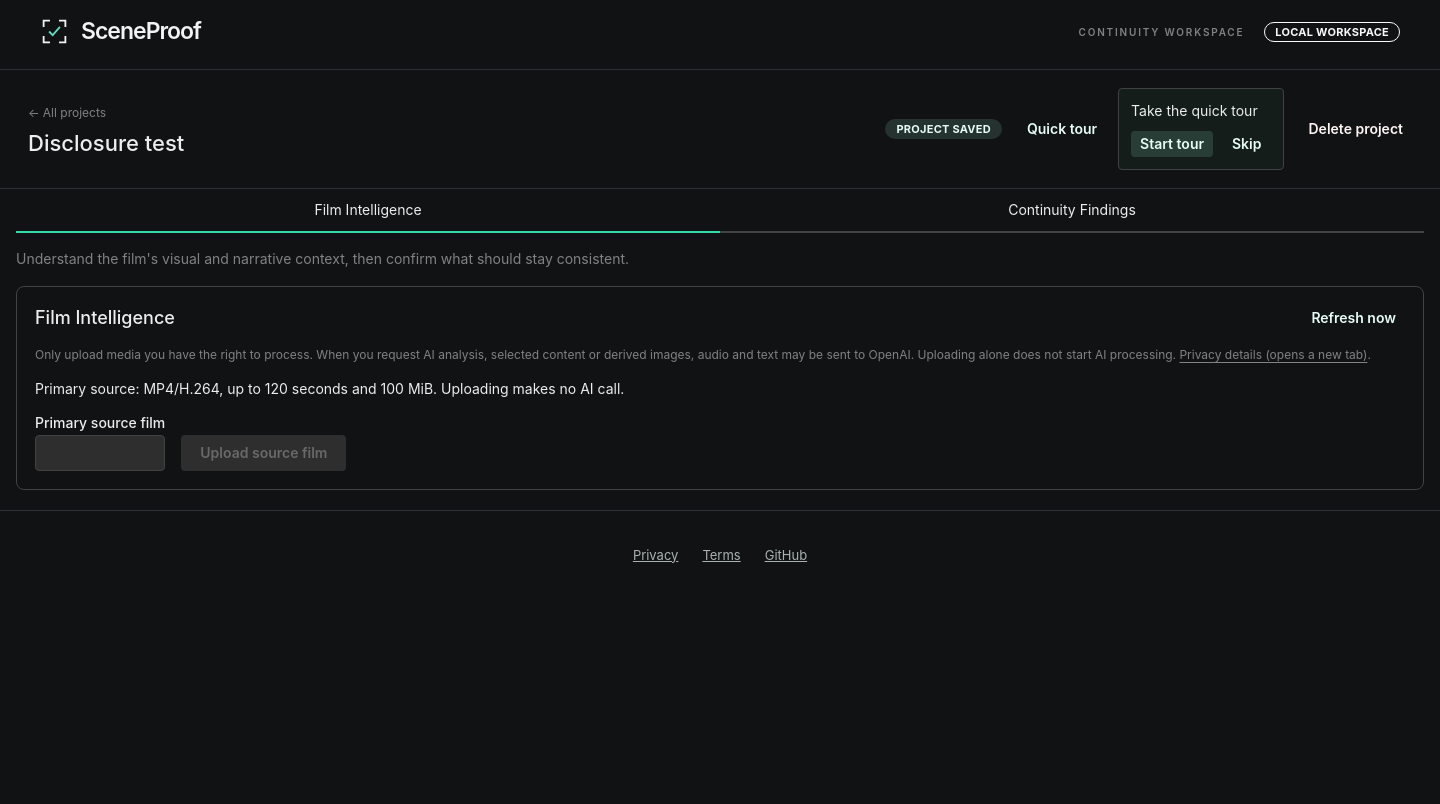
Test: shows one notice at each relevant upload form without uploading or starting analysis
Expected: the text "Only upload media you have the right to process" is shown, [35, 347, 1179, 362]
Click the tab "Continuity Findings": (1072, 211) [720, 189, 1424, 233]
(page scrolled)
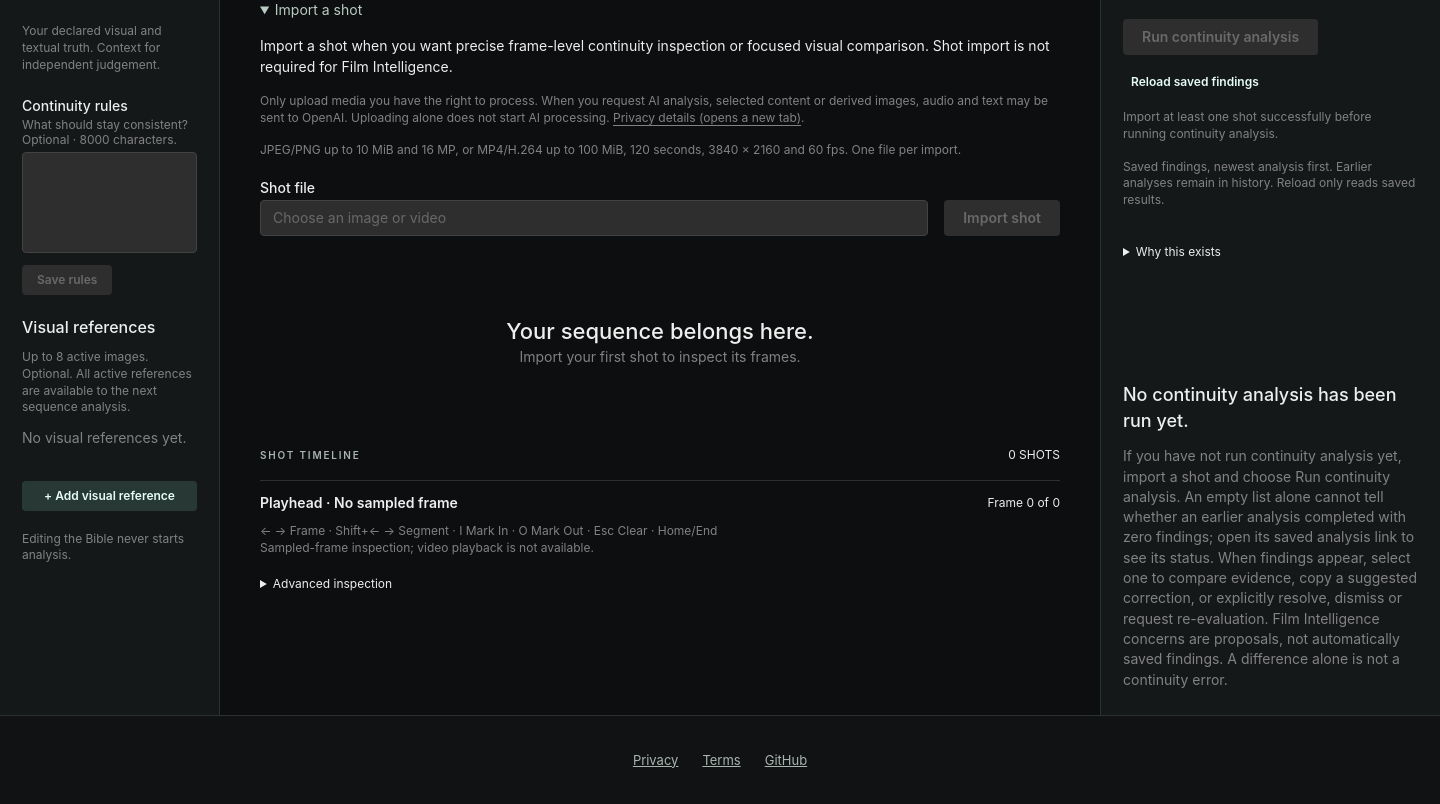
Expected: the text "Only upload media you have the right to process" is shown, [260, 93, 1048, 125]
Click the button "+ Add visual reference": (110, 496) [22, 480, 197, 510]
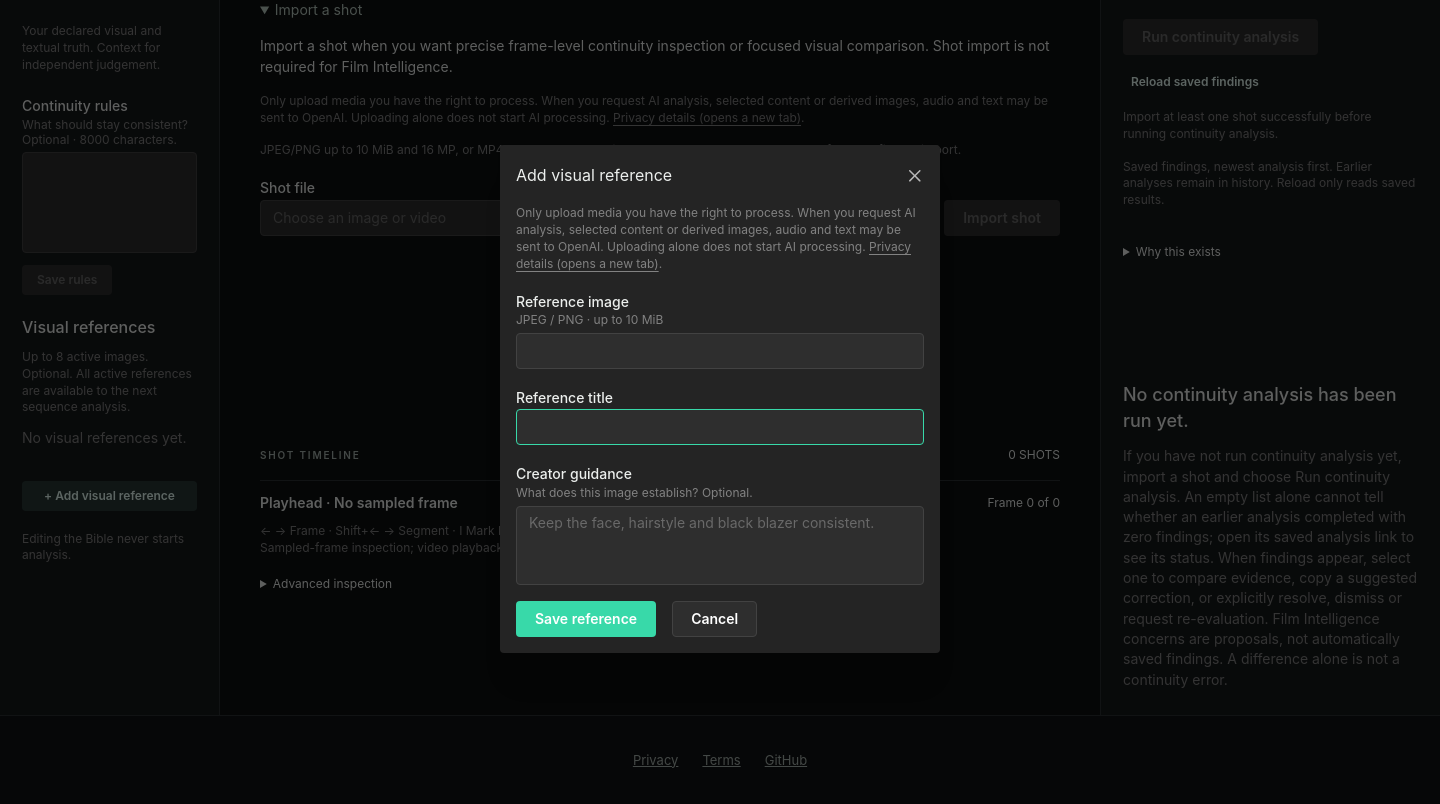
Expected: the text "Only upload media you have the right to process" is shown once, [516, 205, 924, 272]
